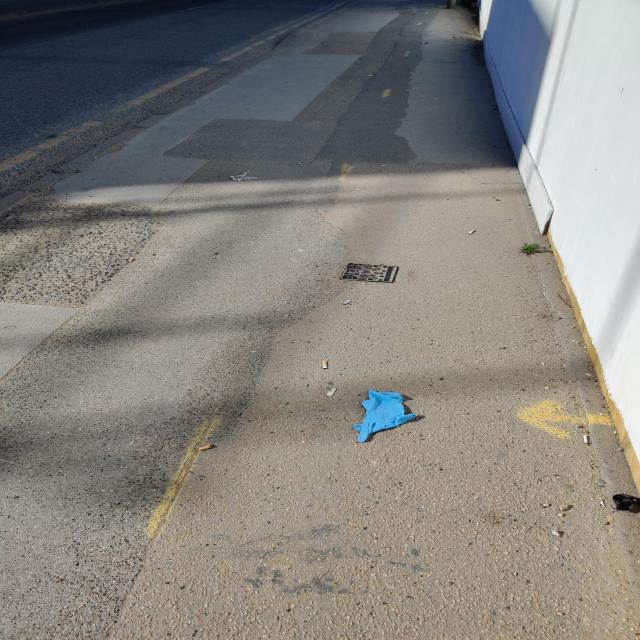litter: (351, 385, 422, 441)
